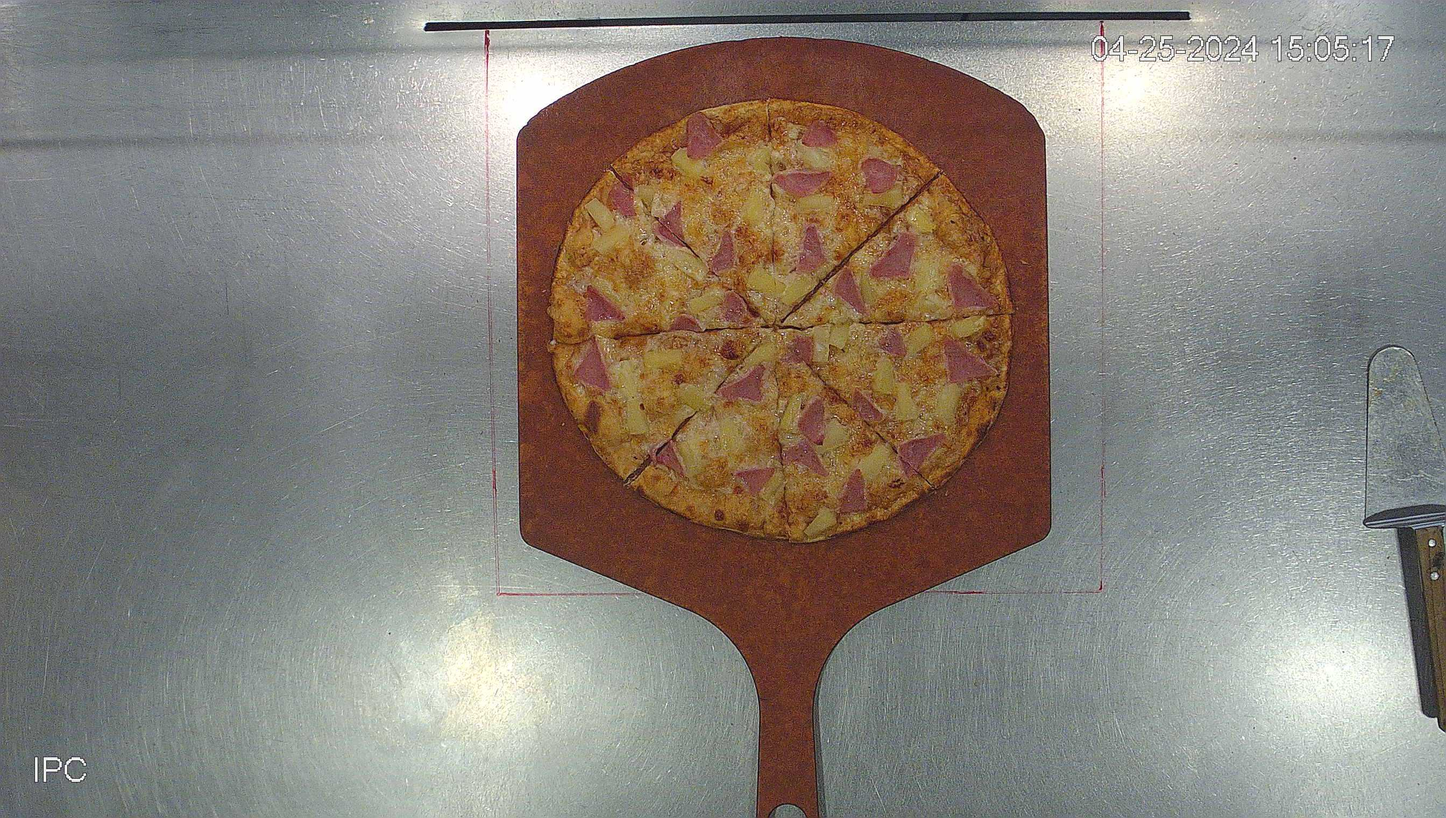manager_choice: (546, 99, 1010, 542)
